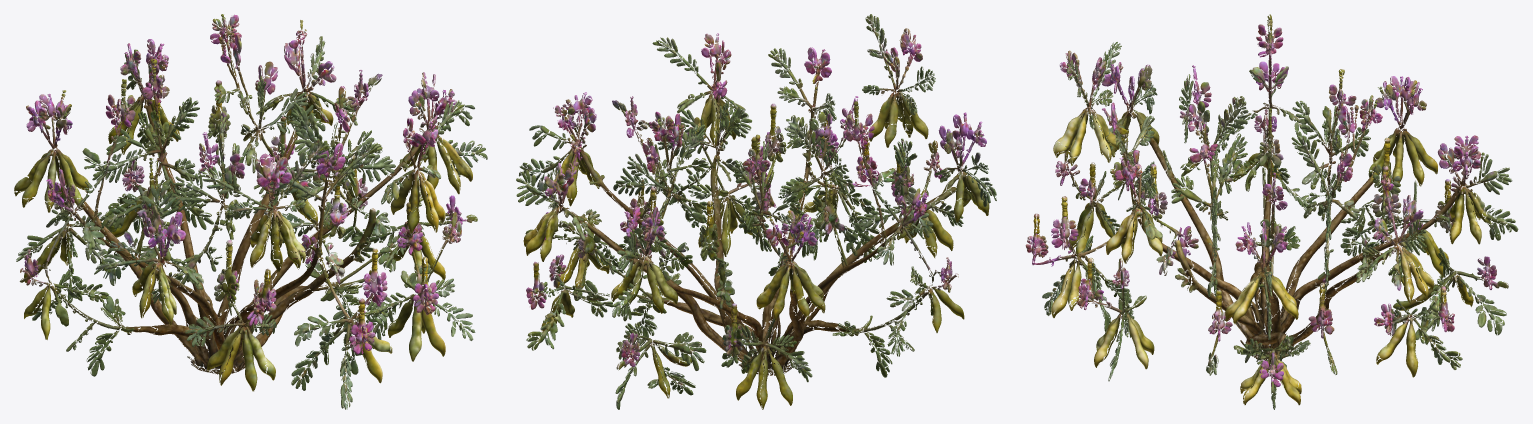
File: dhafra.glb
3 views of the same model, side by side, from view 1: azimuth 30°, elevation 25°; view 2: azimuth 150°, elevation 25°; view 3: azimuth 270°, elevation 25° (orthographic). The views are drawn at different scales.
Parts seen in each view (by area): view 1: tripo_node_b97b27de-8e62-454f-943b-117a89299c60; view 2: tripo_node_b97b27de-8e62-454f-943b-117a89299c60; view 3: tripo_node_b97b27de-8e62-454f-943b-117a89299c60.
Boxes of the visible parts, <box> form: tripo_node_b97b27de-8e62-454f-943b-117a89299c60: <box>14,14,487,409</box>; tripo_node_b97b27de-8e62-454f-943b-117a89299c60: <box>516,14,996,409</box>; tripo_node_b97b27de-8e62-454f-943b-117a89299c60: <box>1025,14,1518,409</box>.
Bounding box in the file's own units: 0.9667 × 0.612 × 0.9356.
Materials: 1 (1 with a texture image).
